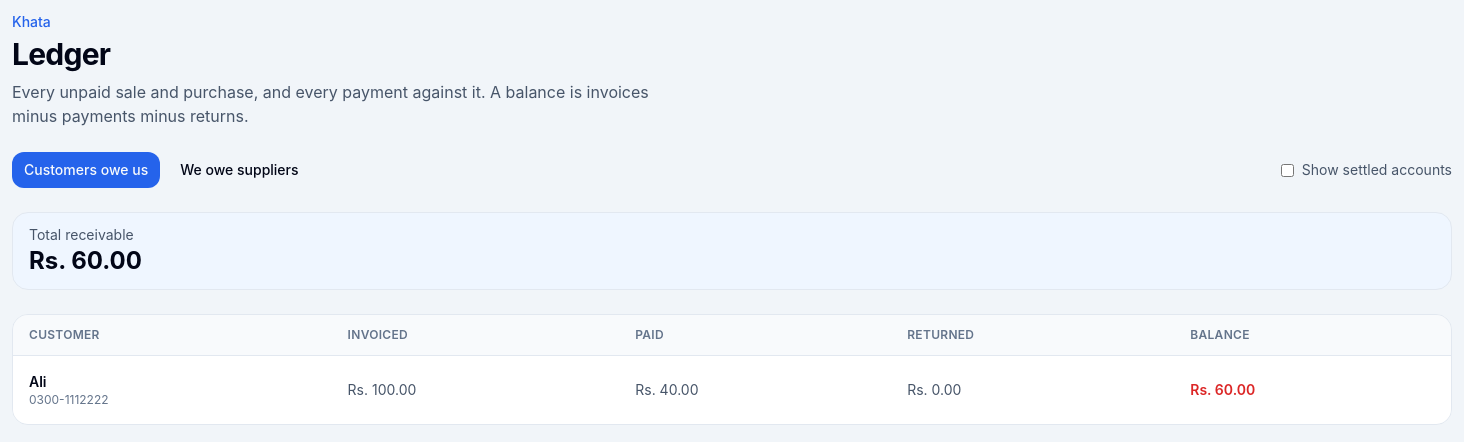
Test: LedgerScreen › switches to what the shop owes suppliers
Expected: the text "Ali" is shown, [29,373,46,390]
Click the button "We owe suppliers": click(239, 170) [168,152,311,188]
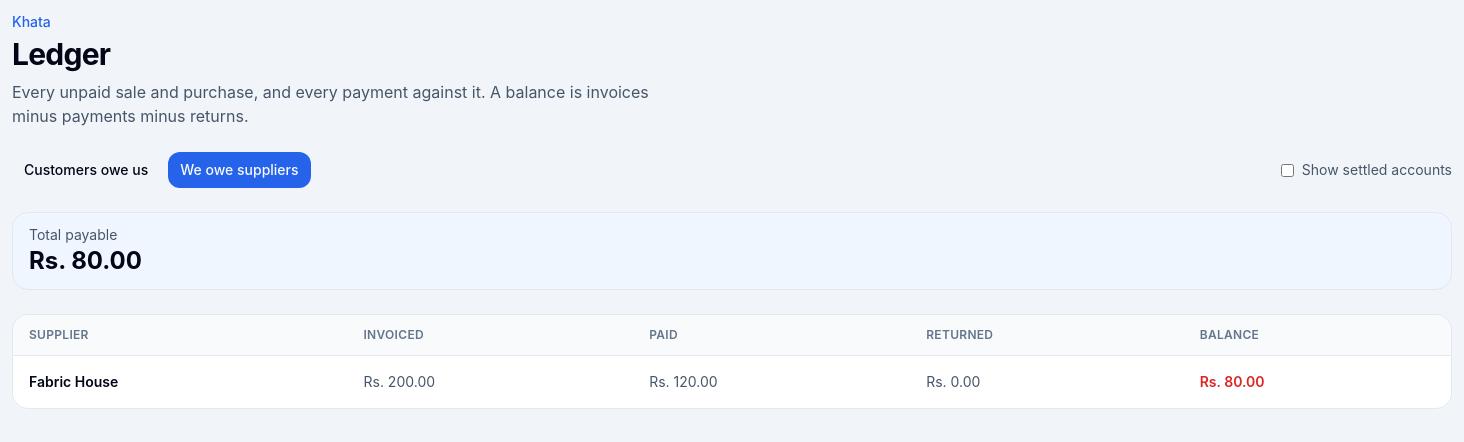
Now the text "Fabric House" is shown, box [29,373,118,390]
Now the text "Total payable" is shown, box [29,226,117,243]
